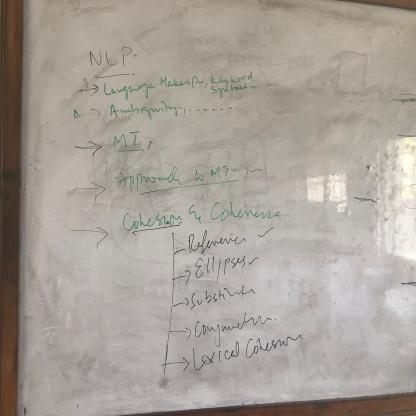Handwritten text: (105, 196, 290, 234), (185, 332, 309, 385), (112, 159, 267, 192), (101, 74, 262, 99), (103, 98, 191, 127), (191, 312, 281, 338), (179, 285, 264, 309), (189, 251, 249, 279), (88, 39, 142, 69), (180, 228, 248, 251), (108, 131, 144, 150)
